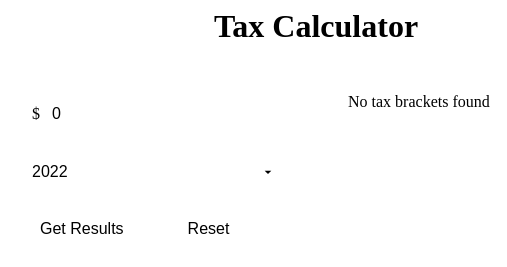
Test: App Component › handles API error in handleSubmit and shows error message
The image size is (507, 267).
Replace the text in the field with placeholder "income" with "10000" at (166, 114), box left=48, top=93, right=284, bottom=135
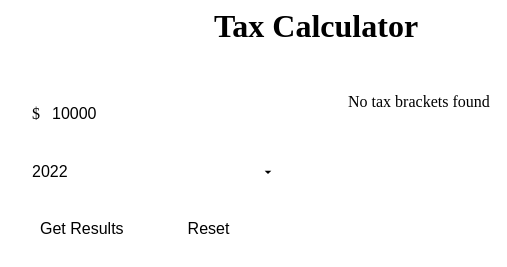
Click the button "Get Results" at (82, 229), box left=16, top=208, right=148, bottom=250
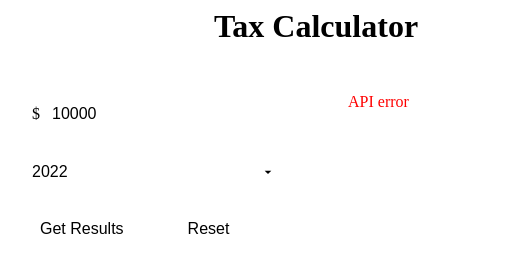
Now the text "API error" is shown, box left=348, top=93, right=409, bottom=110
